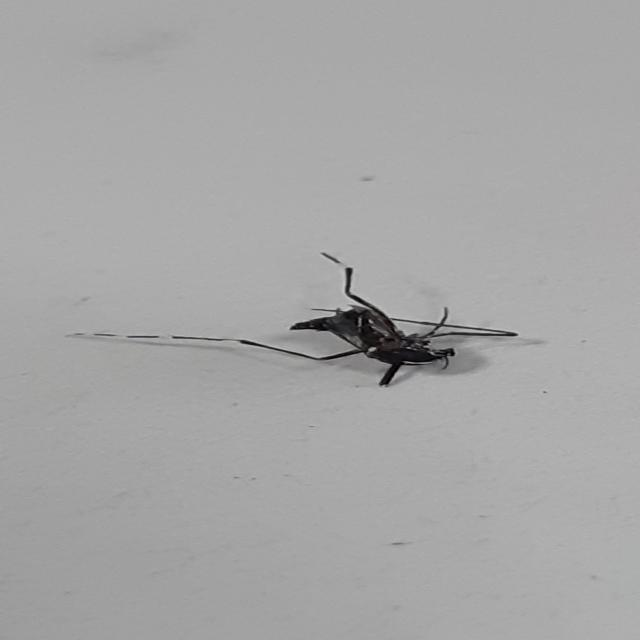albopictus: (76, 248, 541, 396)
